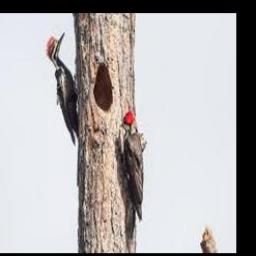Woodpecker: (46, 30, 79, 144), (119, 111, 144, 252)
